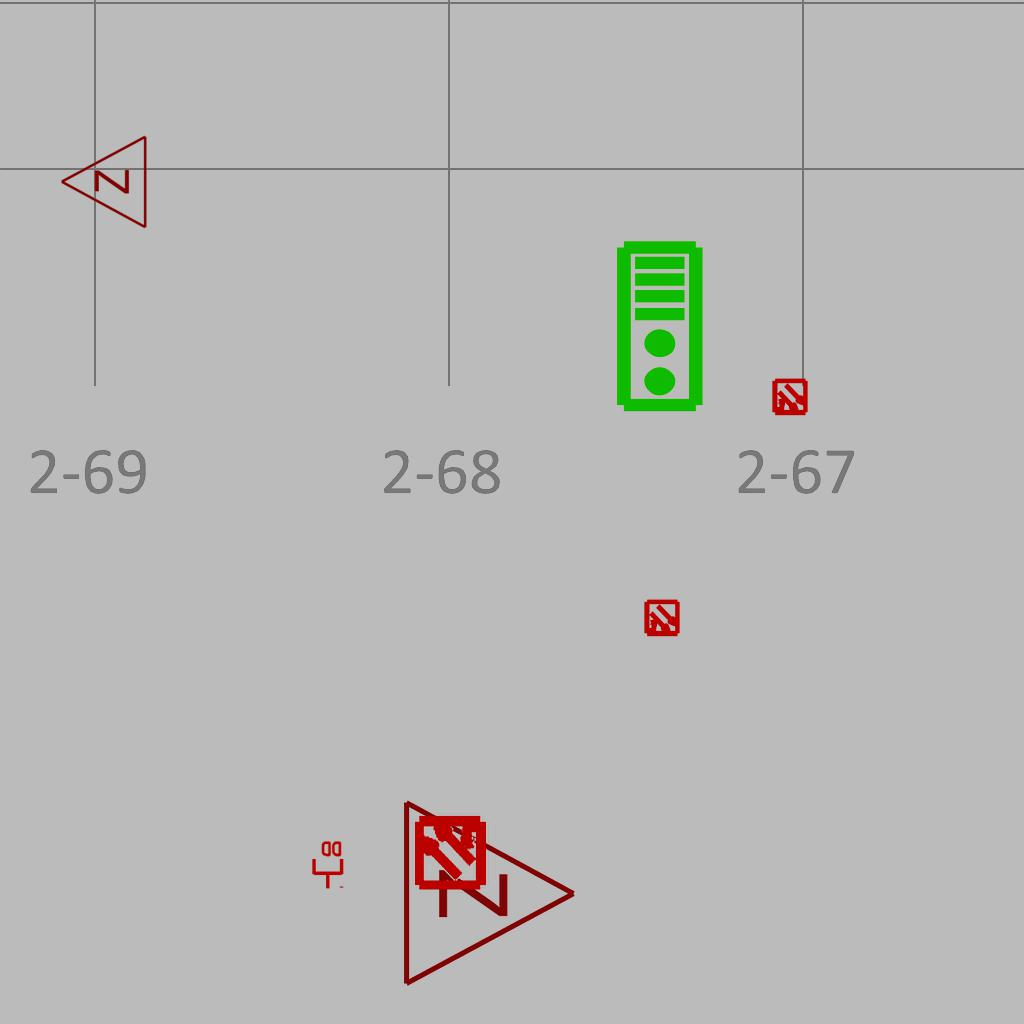Datenanschluss_zweifach: (310, 839, 344, 890)
Gegensprechanlage_mit_Video: (614, 239, 709, 415)
OT_Multisensormelder_(Kombination_RMO_WMD): (394, 794, 507, 907), (634, 591, 690, 647), (762, 370, 818, 426)
Zimmersignalleuchte: (389, 793, 589, 989), (54, 134, 154, 232)
